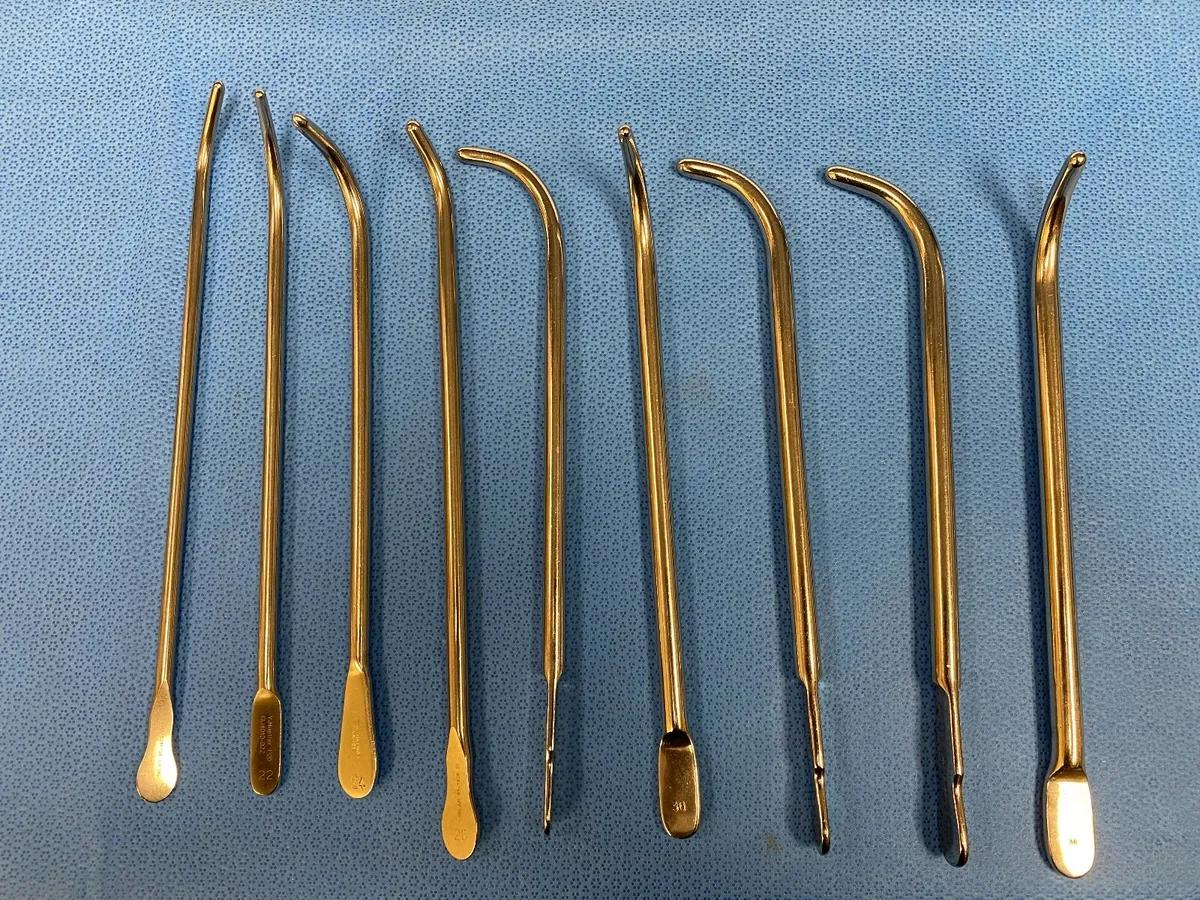Urethral Dilators: (670, 110, 843, 853), (819, 129, 983, 890), (119, 71, 243, 800), (606, 114, 723, 849), (464, 131, 580, 847), (404, 113, 507, 860), (296, 106, 393, 819), (1033, 140, 1113, 883), (253, 73, 297, 803)
